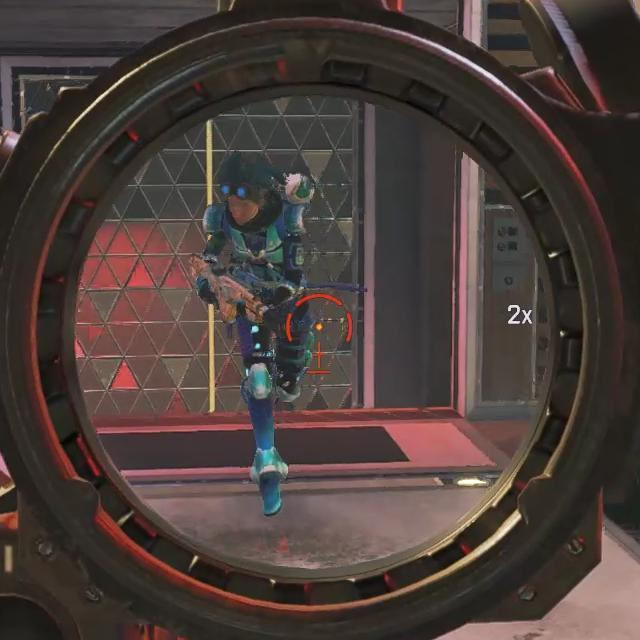avatar: (194, 149, 319, 520)
